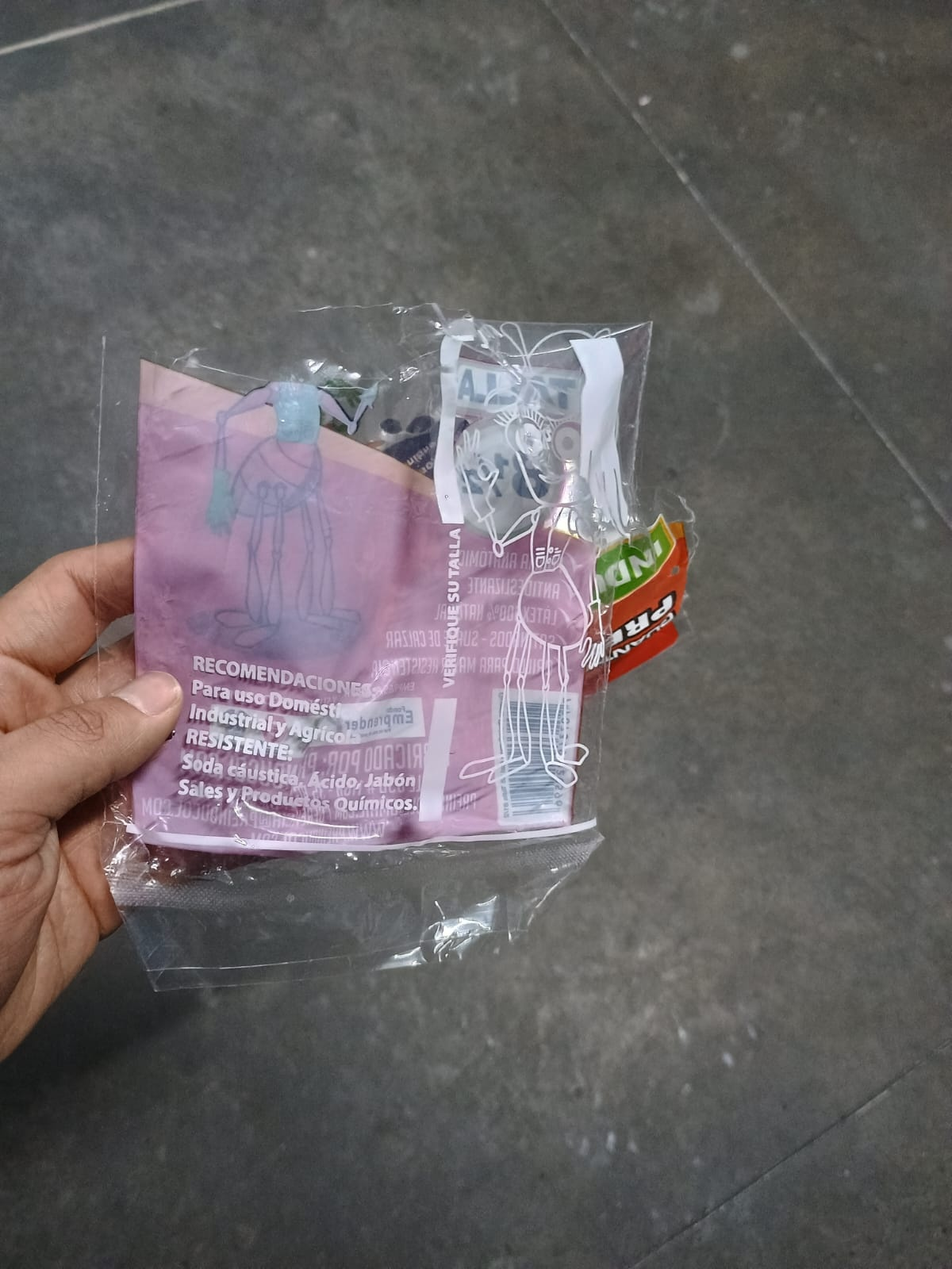Ordinario: (83, 304, 699, 995)
